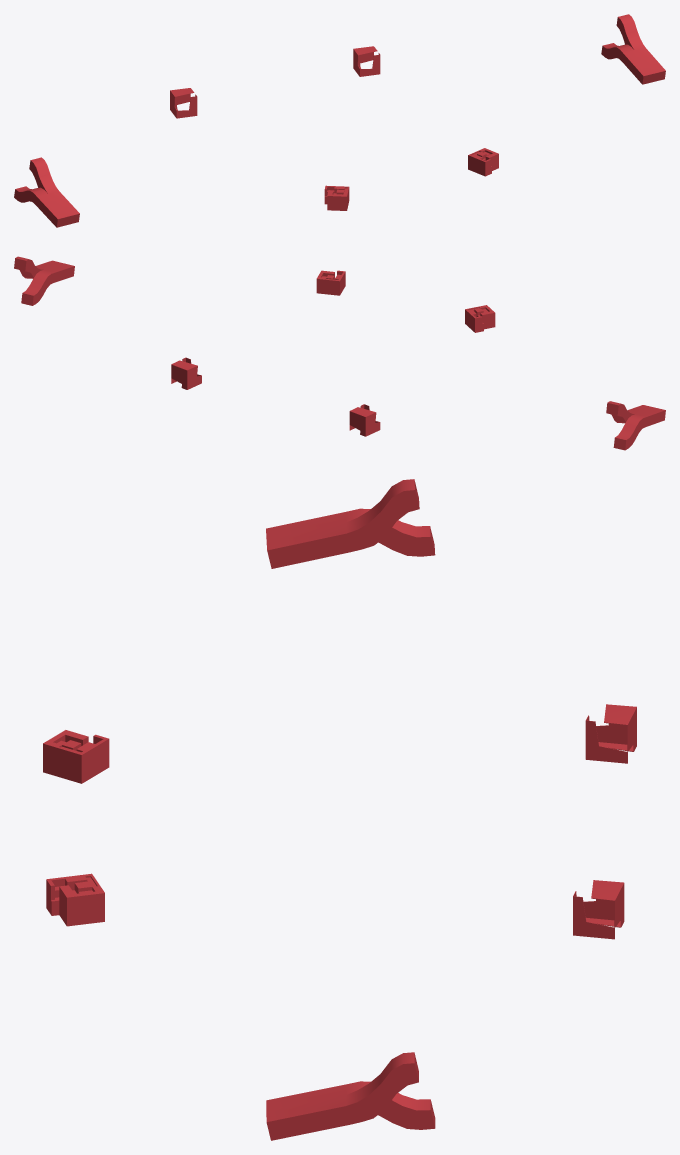
The model's file is TresuresMain.fbx.
The picture shows the model from 3 angles, top to bottom: view 1: azimuth 30°, elevation 25°; view 2: azimuth 150°, elevation 25°; view 3: azimuth 270°, elevation 25°; orthographic projection. The views are drawn at different scales.
Parts seen in each view (by area): view 1: Trophy.010, Trophy.011, Trophy.008, Trophy.006, Trophy.007, Trophy.009; view 2: Trophy.011, Trophy.010, Trophy.006, Trophy.007, Trophy.009, Trophy.008; view 3: Trophy.011, Trophy.010, Trophy.009, Trophy.008, Trophy.006, Trophy.007.
Part boxes in pixels (x1,y1,x2,y2): Trophy.010: (14,157,79,227); Trophy.011: (601,14,665,84); Trophy.008: (468,148,498,176); Trophy.006: (170,88,197,118); Trophy.007: (353,46,380,76); Trophy.009: (324,185,349,210); Trophy.011: (14,256,74,305); Trophy.010: (606,401,665,450); Trophy.006: (349,404,380,436); Trophy.007: (171,357,201,389); Trophy.009: (465,305,495,332); Trophy.008: (316,270,345,295); Trophy.011: (266,1052,435,1140); Trophy.010: (266,479,435,568); Trophy.009: (43,730,109,783); Trophy.008: (46,873,104,926); Trophy.006: (585,704,636,763); Trophy.007: (573,880,624,939).
Bounding box in the file's own units: 38.59 × 2.35 × 16.28.
